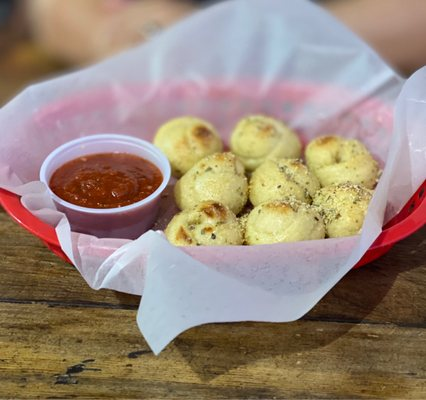sushi: (14, 133, 171, 240)
